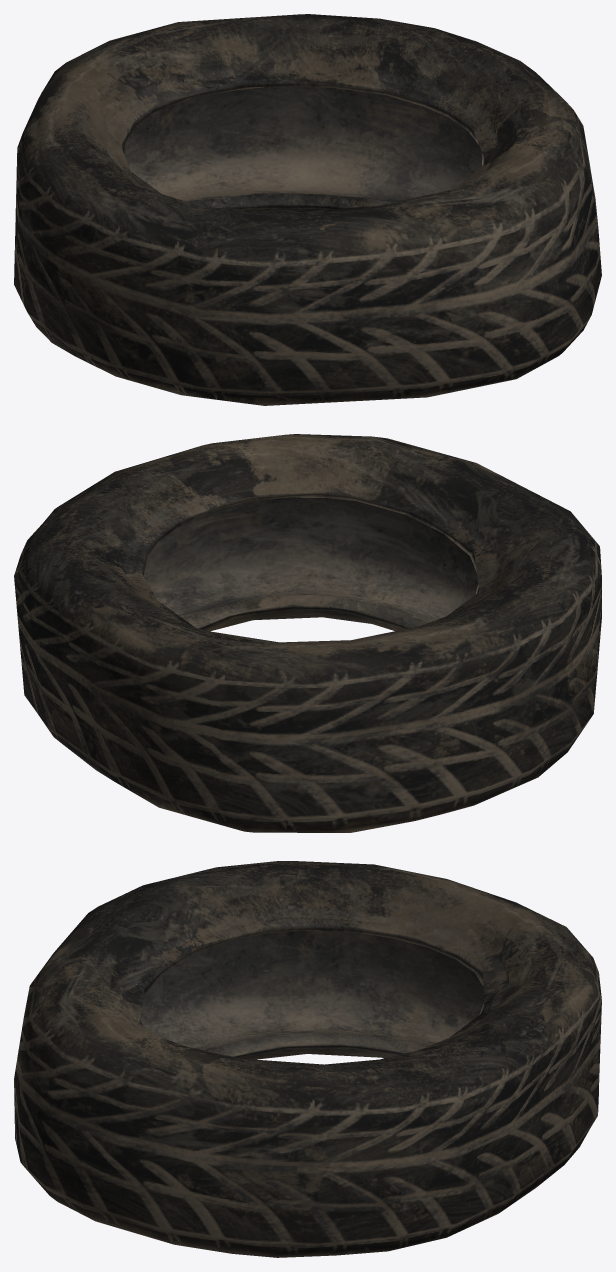
File: SM_Tire_02.fbx
The picture shows the model from 3 angles, top to bottom: view 1: azimuth 30°, elevation 25°; view 2: azimuth 150°, elevation 25°; view 3: azimuth 270°, elevation 25°; orthographic projection.
Parts seen in each view (by area): view 1: SM_Tire_02_LOD0; view 2: SM_Tire_02_LOD0; view 3: SM_Tire_02_LOD0.
Boxes of the visible parts, x1,y1,x2,y2 form: SM_Tire_02_LOD0: (14,14,601,405); SM_Tire_02_LOD0: (14,434,601,832); SM_Tire_02_LOD0: (14,861,601,1257).
Bounding box in the file's own units: 70.11 × 71.27 × 24.66.
Materials: 1 (1 with a texture image).
